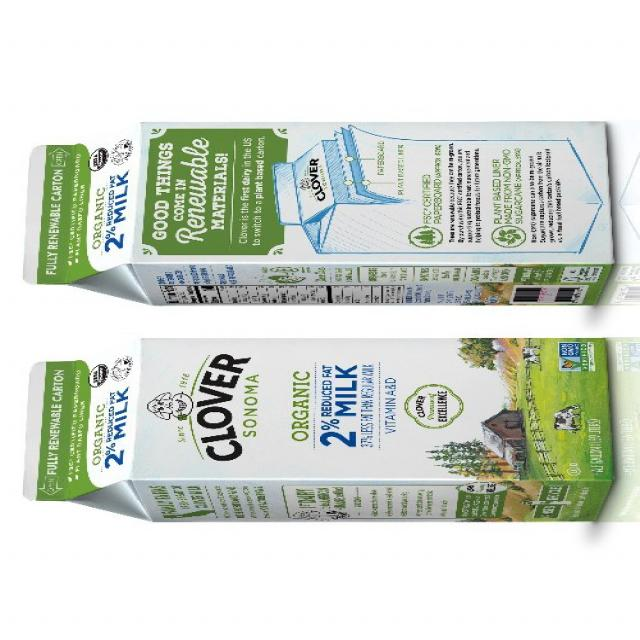non_white_jug: (21, 338, 619, 524), (19, 119, 616, 305)
